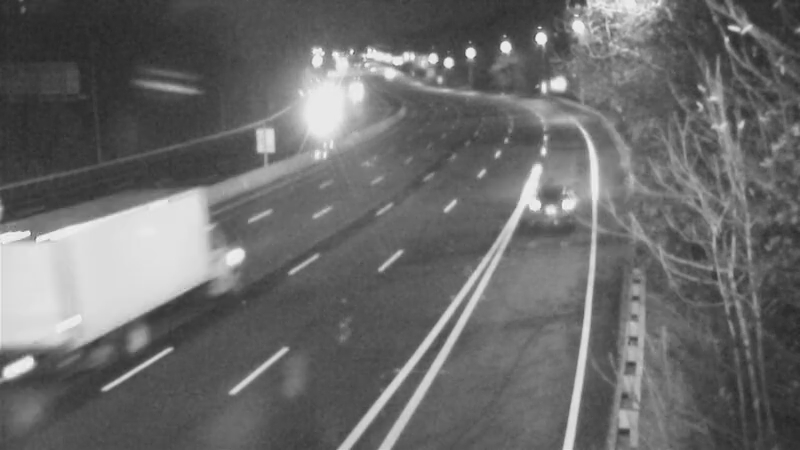vehicle: (510, 166, 590, 246), (96, 228, 176, 308), (362, 48, 412, 98), (298, 97, 348, 147)
